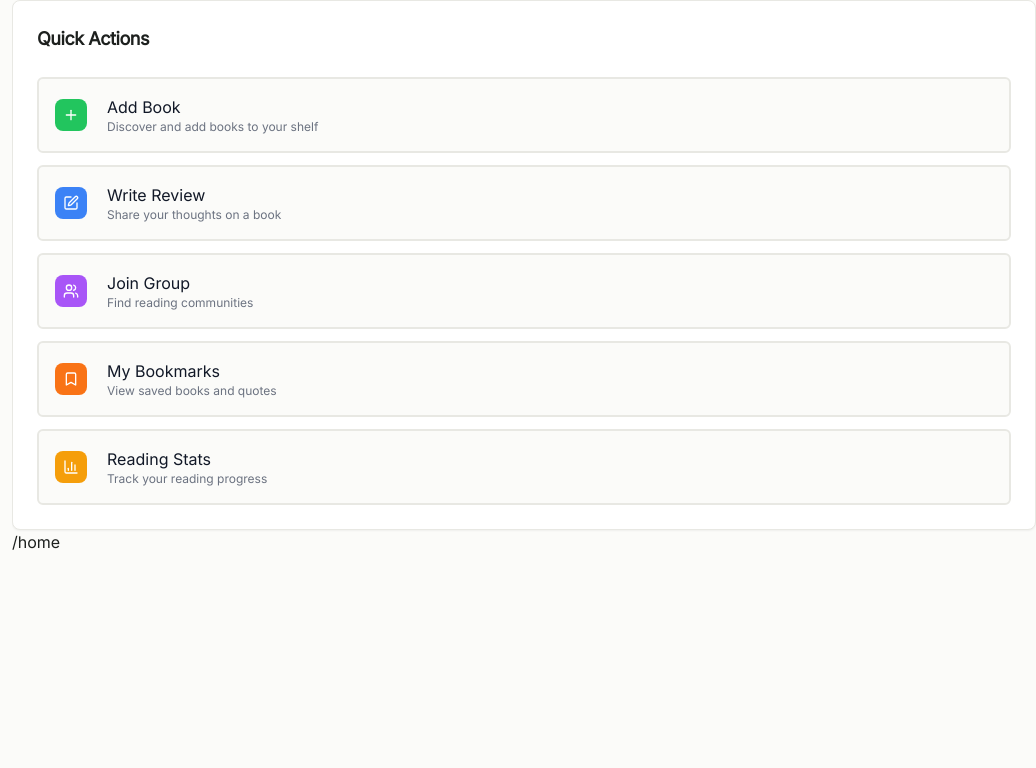
Test case: QuickActionsPanel › navigates to the correct destination for Join Group
Click the button "Join Group Find reading communities" at x=71, y=291, box [37,253,1011,329]
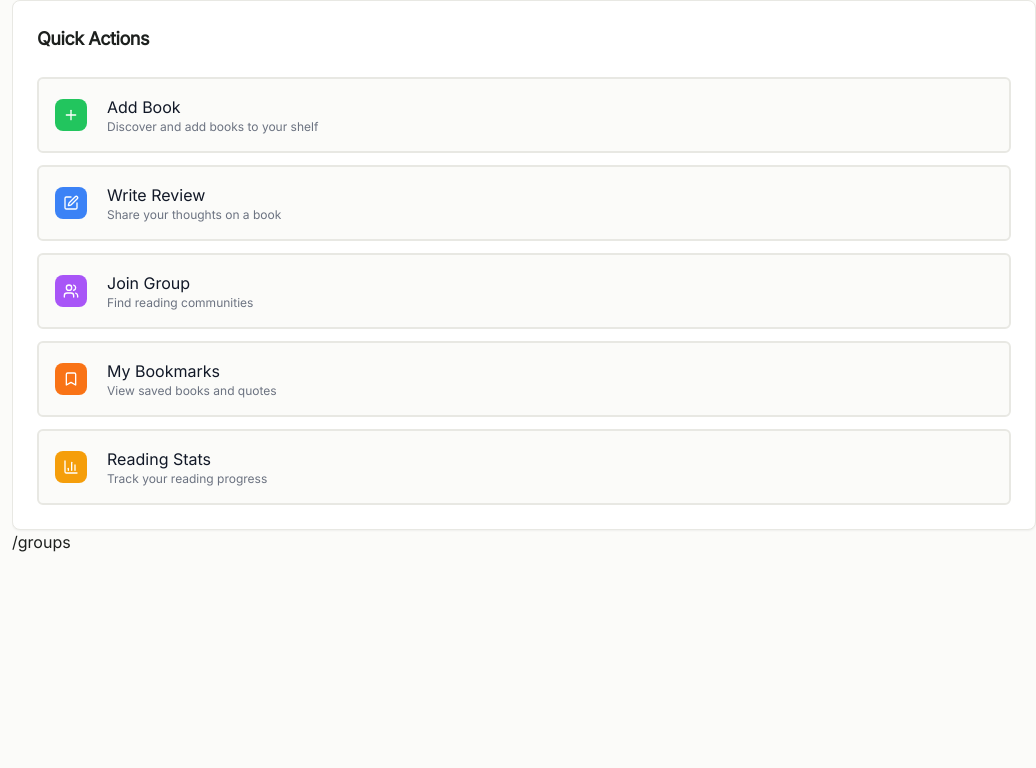
Now the text named "current route" reads "/groups", box [12,532,71,552]
